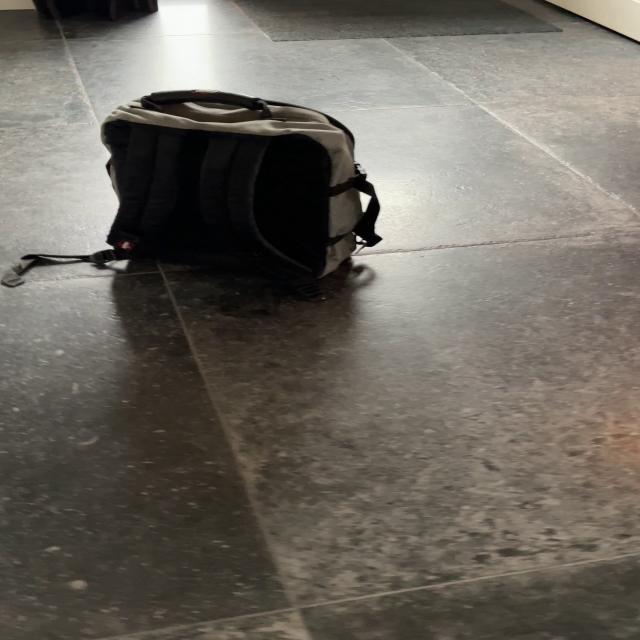backpack: (89, 81, 392, 302)
